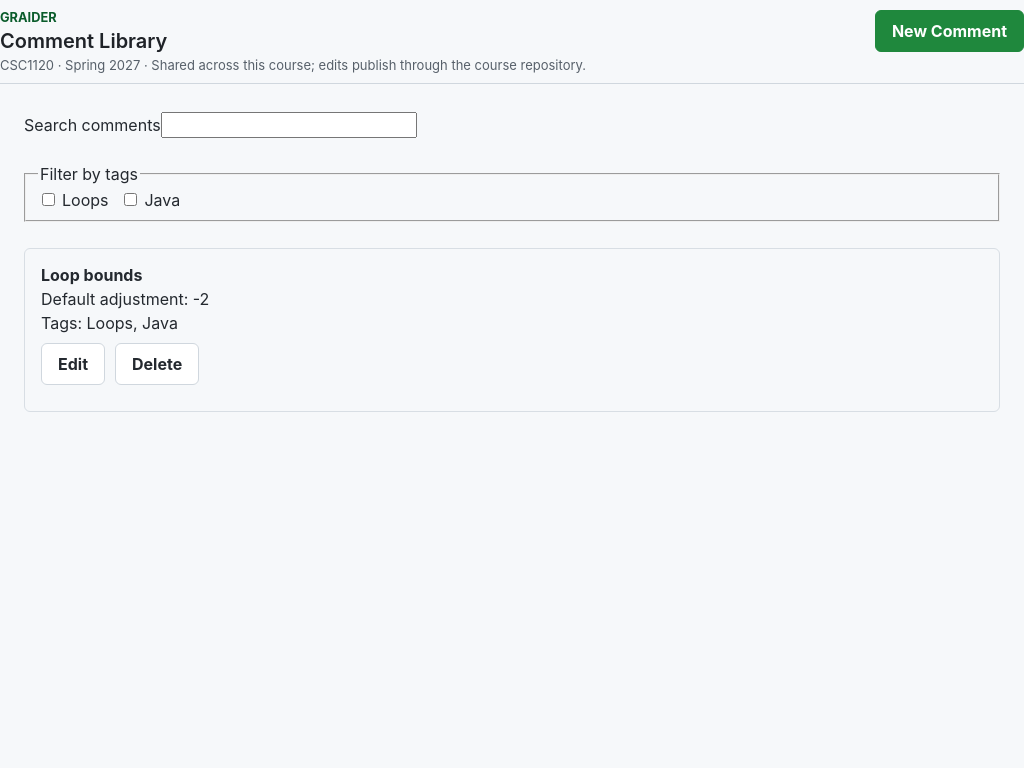
Test: CommentLibraryPage › confirms deletion and leaves applied student comments explicitly untouched
This screenshot has width=1024, height=768.
Expected: the text "Loop bounds" is shown, [41, 265, 142, 285]
Click the button "Delete". click: point(157, 364)
box: [115, 343, 199, 385]
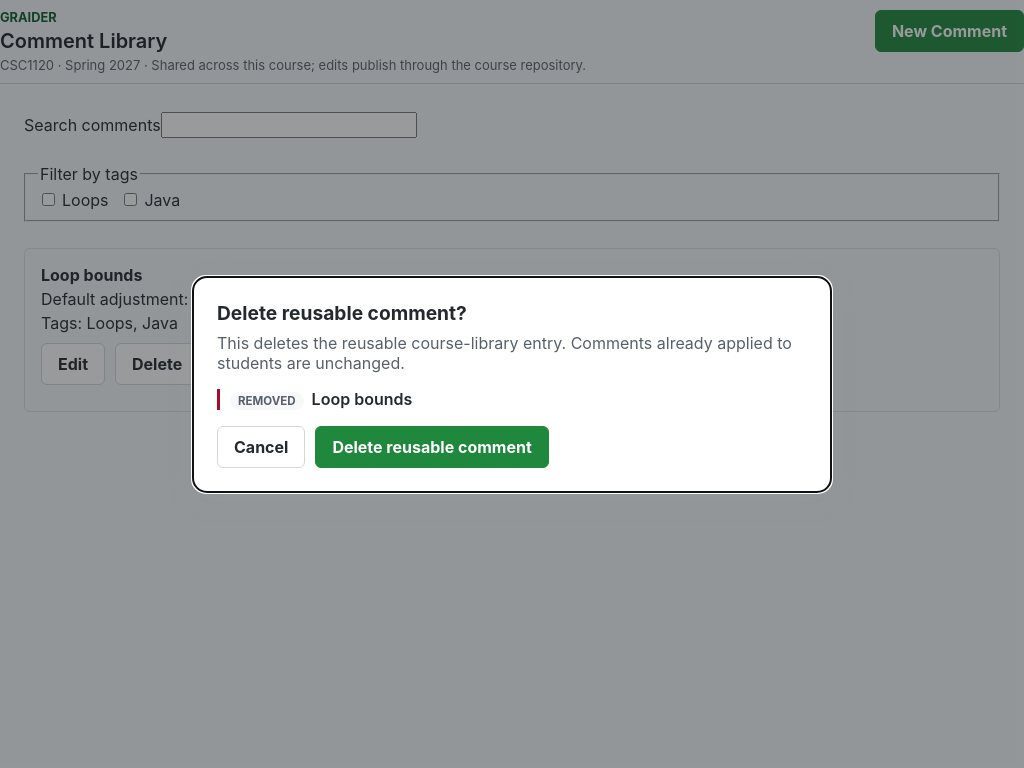
Result: the dialog shows "Comments already applied to students are unchanged." at [217, 332, 792, 372]
Click the button "Delete reusable comment". click: point(432, 446)
box: [315, 426, 549, 468]
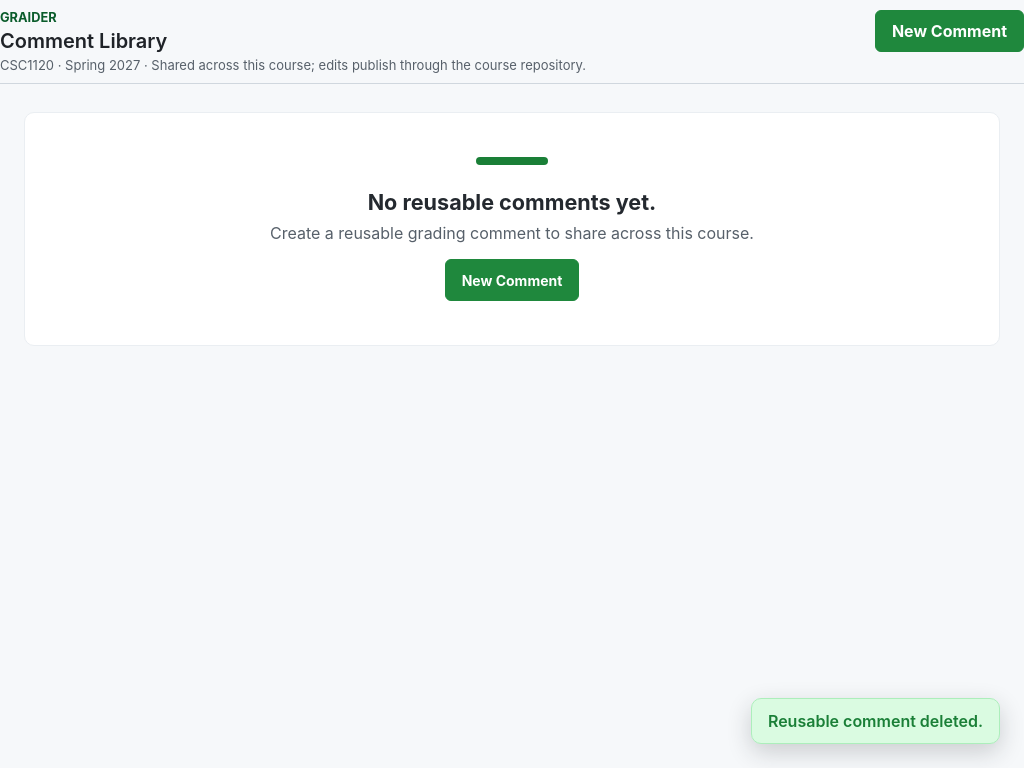
Result: the text "Loop bounds" is gone
